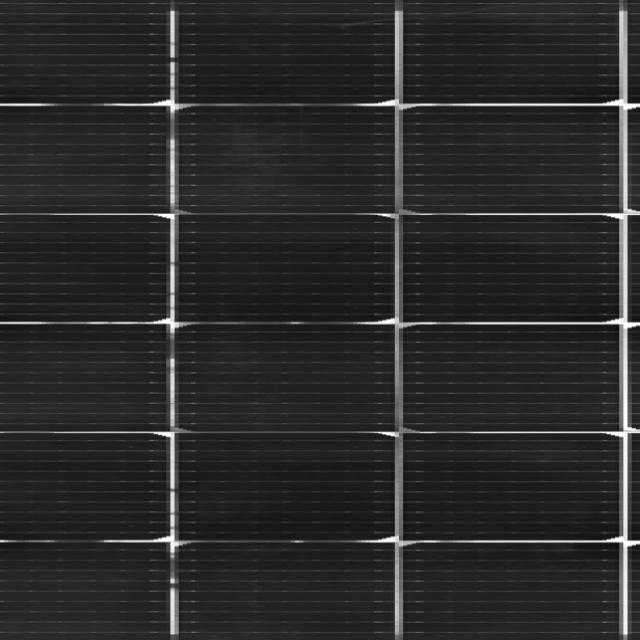CELL SHORT: (205, 201, 373, 223), (186, 424, 361, 444)
